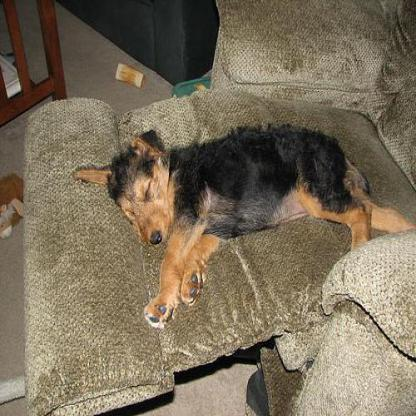dog: (79, 127, 386, 283)
